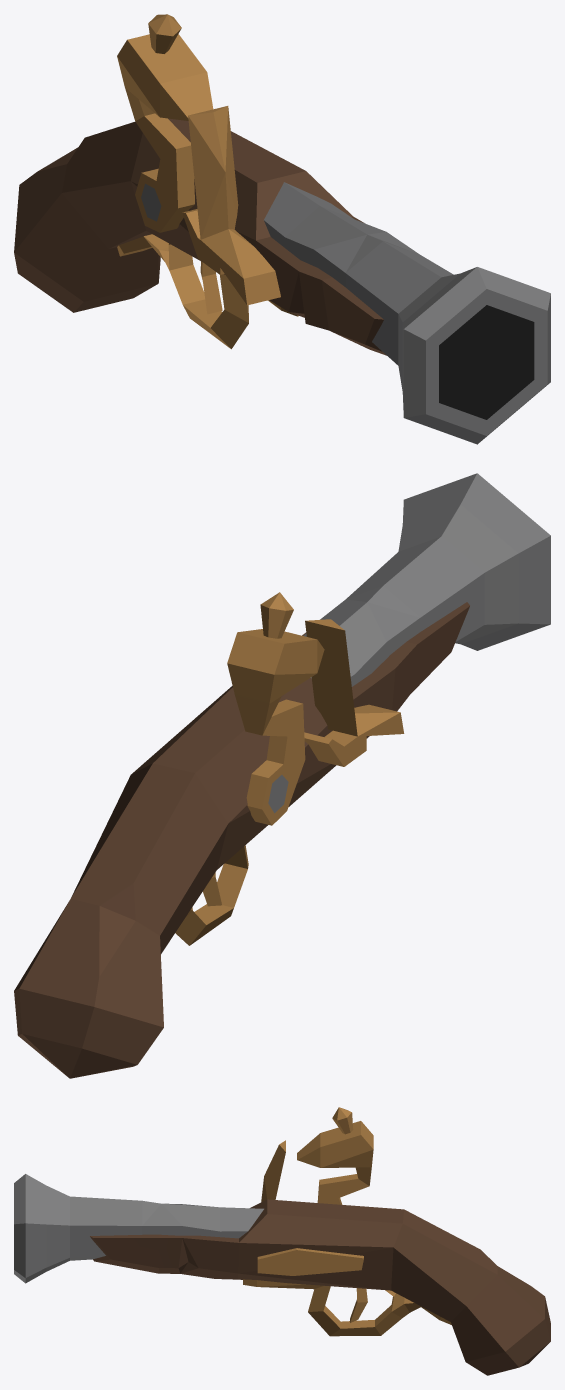
The model's file is SM_Wep_MusketPistol_05.glb.
3 views of the same model, one above another, from view 1: azimuth 30°, elevation 25°; view 2: azimuth 150°, elevation 25°; view 3: azimuth 270°, elevation 25° (orthographic). The views are drawn at different scales.
Parts seen in each view (by area): view 1: SM_Wep_MusketPistol_081; view 2: SM_Wep_MusketPistol_081; view 3: SM_Wep_MusketPistol_081.
Part boxes in pixels (<box>): SM_Wep_MusketPistol_081: <box>14,14,550,444</box>; SM_Wep_MusketPistol_081: <box>14,473,550,1078</box>; SM_Wep_MusketPistol_081: <box>14,1107,550,1375</box>.
Size of the model in its own units: 0.000955 by 0.00233 by 0.00468.
